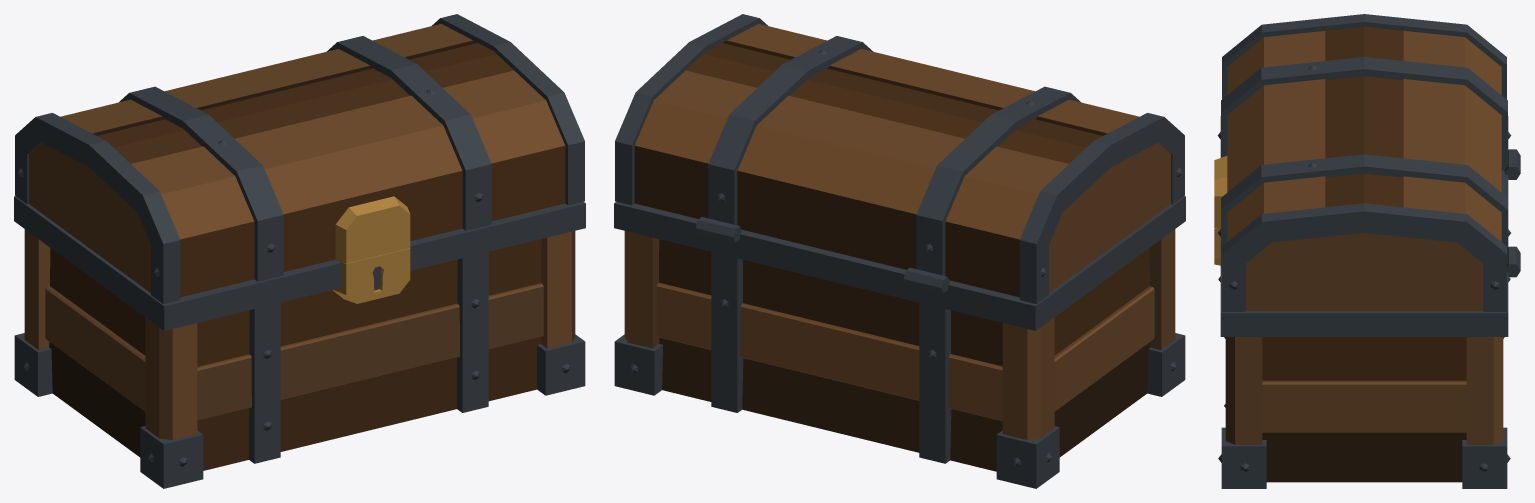
File: treasure_chest.glb
3 renders of one model, left to right at view 1: azimuth 30°, elevation 25°; view 2: azimuth 150°, elevation 25°; view 3: azimuth 270°, elevation 25°, orthographic. The views are drawn at different scales.
Visible parts, largest first — view 1: lid-mesh, body; view 2: lid-mesh, body; view 3: lid-mesh, body.
Part boxes in pixels (<box>): lid-mesh: <box>15,14,584,303</box>; body: <box>14,196,585,488</box>; lid-mesh: <box>615,14,1184,303</box>; body: <box>614,196,1185,488</box>; lid-mesh: <box>1214,14,1511,311</box>; body: <box>1214,116,1520,488</box>.
Size of the model in its own units: 0.905 by 0.5871 by 0.5855.
